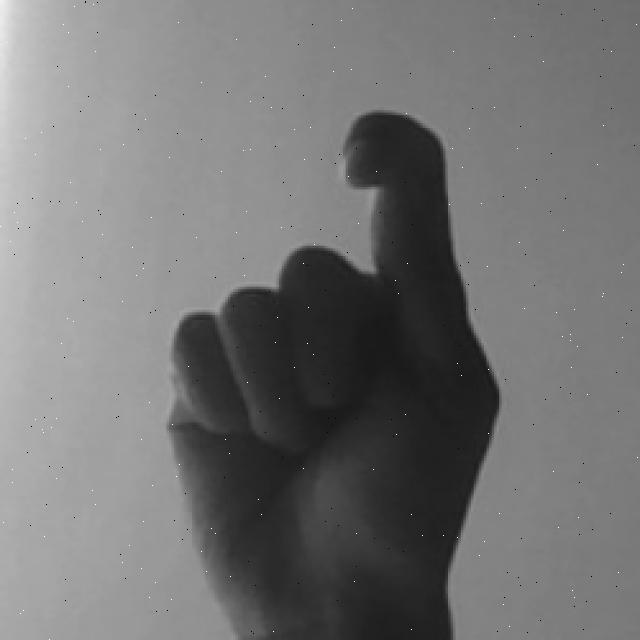T: (151, 102, 507, 640)
